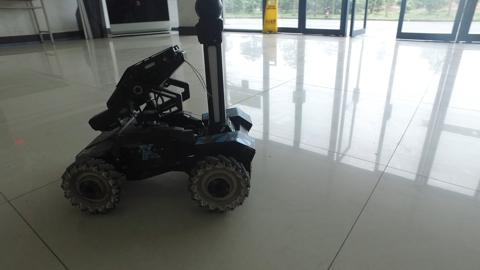chariot: (59, 1, 255, 215)
